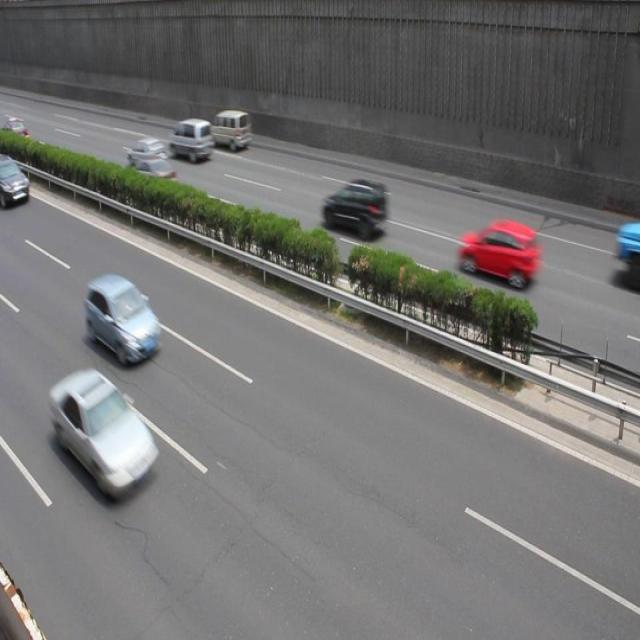car: (48, 368, 160, 498), (86, 273, 162, 363), (457, 218, 540, 288), (321, 179, 386, 239), (126, 158, 177, 199), (1, 158, 30, 210), (130, 136, 168, 169)
truck: (168, 120, 214, 162), (210, 112, 252, 150)
